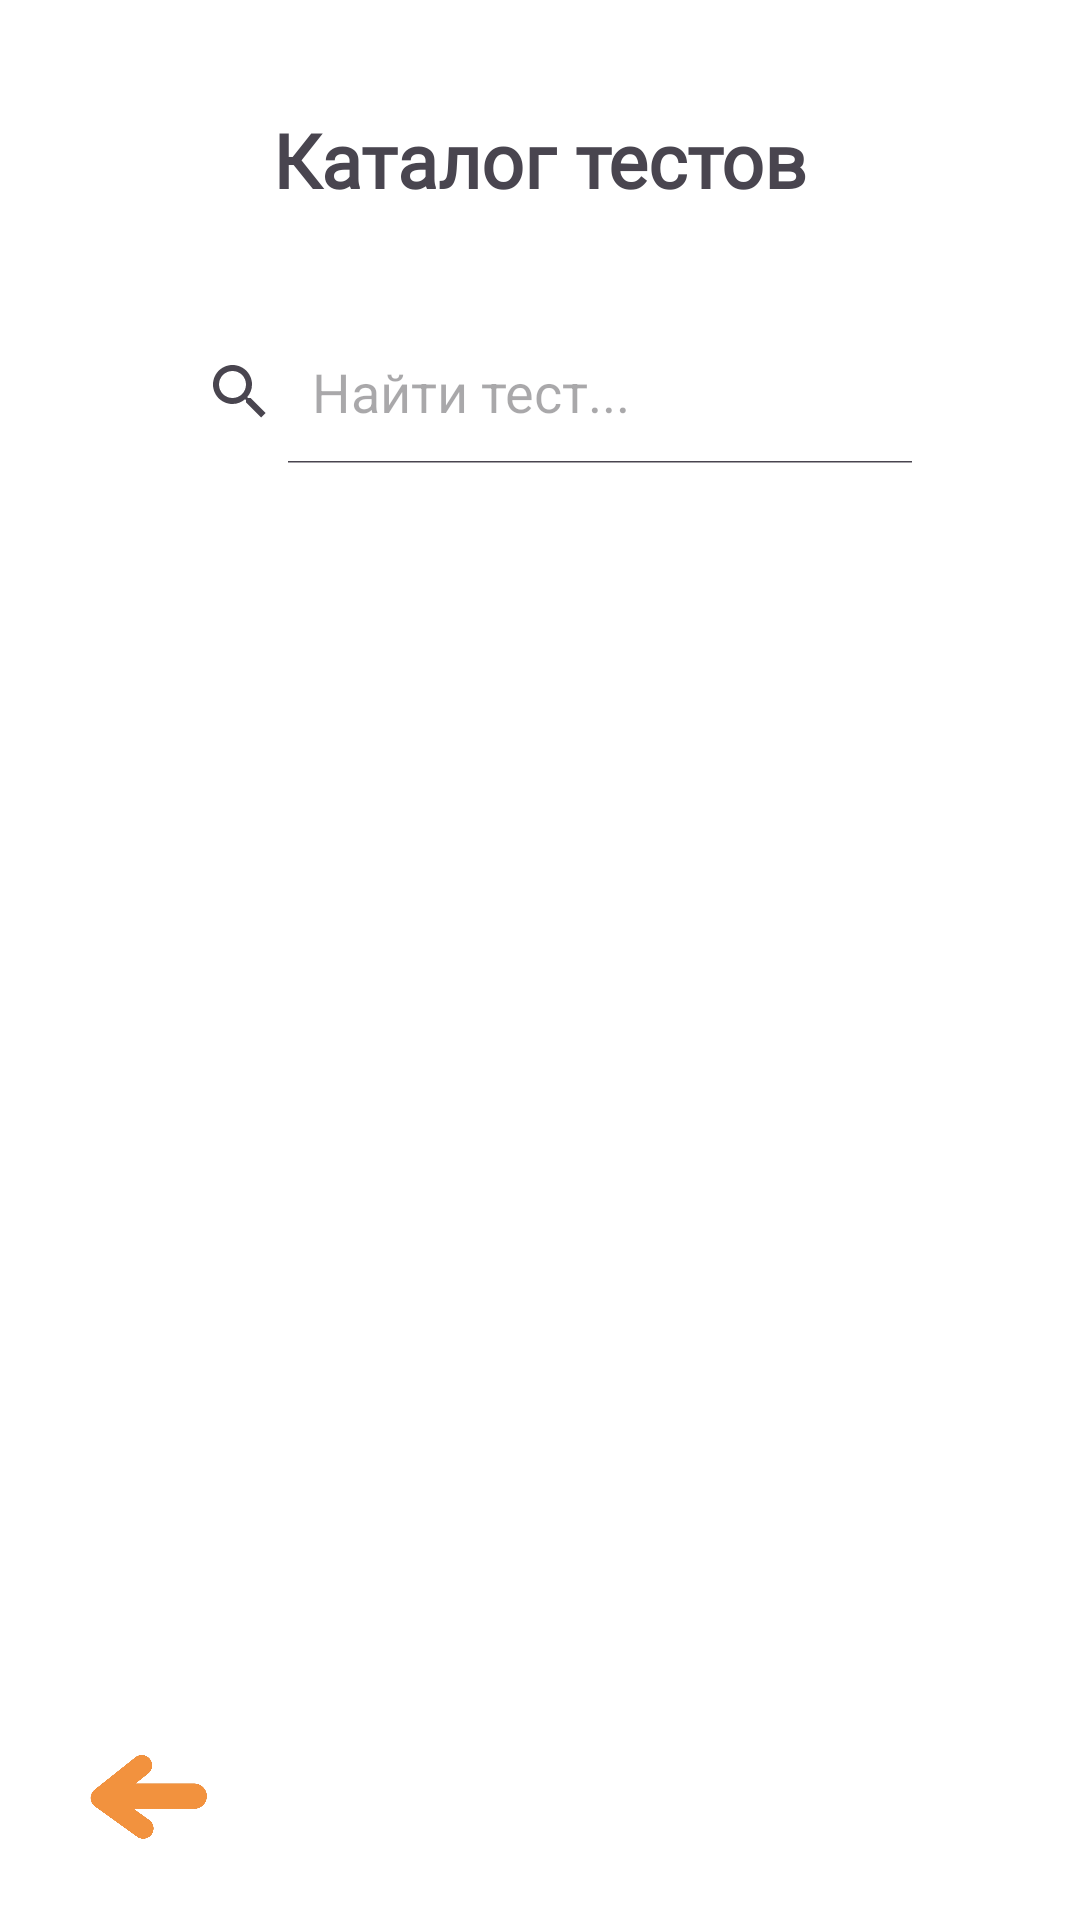

Named icons in this screenshot (1080px×1920px) and their centers, [x,y]:
back: [148,1797]
